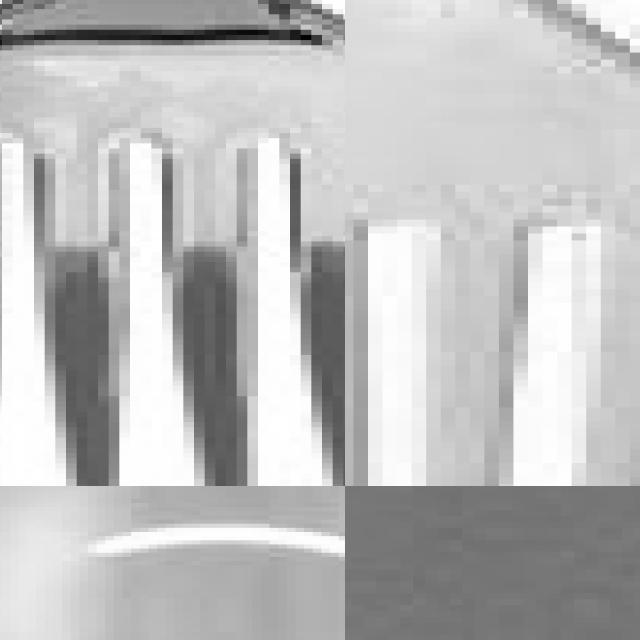forks: (0, 0, 345, 486), (345, 0, 640, 486), (413, 486, 640, 640)
spoons: (0, 486, 345, 640)
